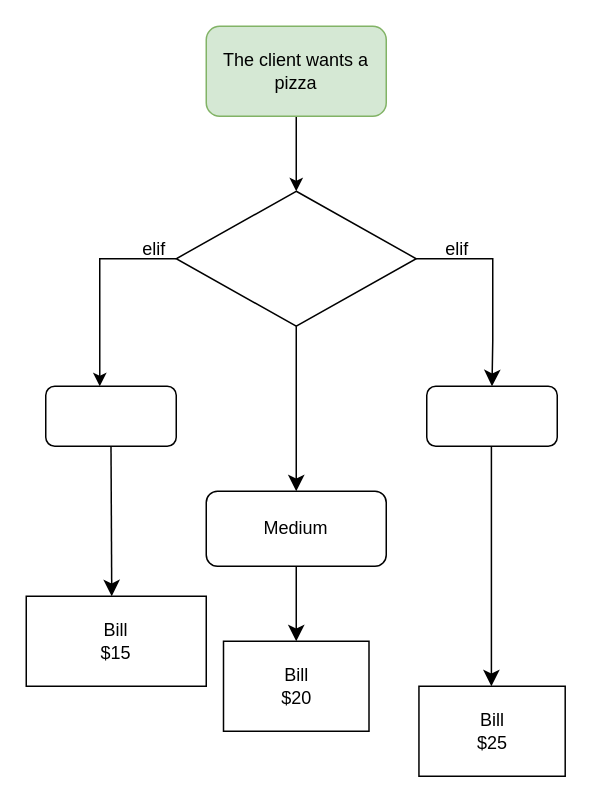
The diagram is 593 pixels wide and 803 high, and some of its shapes have lost their labels. The shapes that lost their labels are listed below. From the top down, each one's centre as x and y in pixels, then its label:
At (x=295, y=258): "Size of the pizza".
At (x=110, y=415): "Small".
At (x=491, y=415): "Large".
